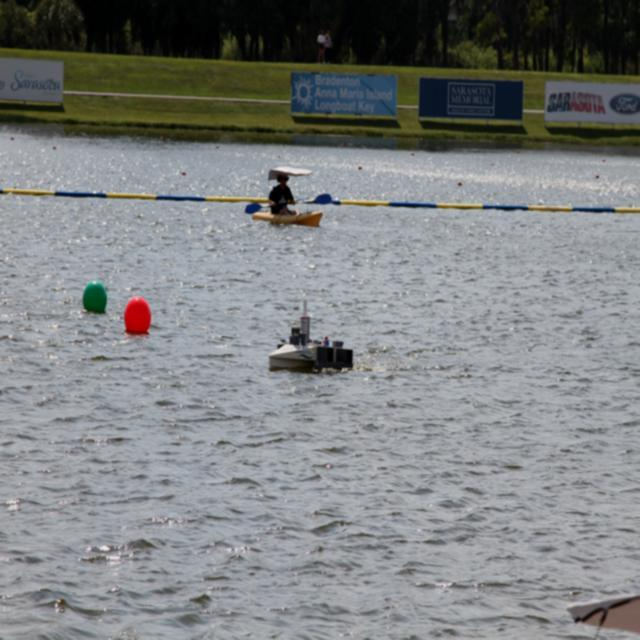buoy: (122, 292, 152, 338), (81, 276, 108, 316)
